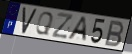5: (89, 18, 106, 45)
A: (66, 16, 87, 43)
B: (103, 20, 125, 49)
Q: (34, 11, 55, 37)
V: (21, 7, 38, 35)
Z: (50, 11, 75, 40)
